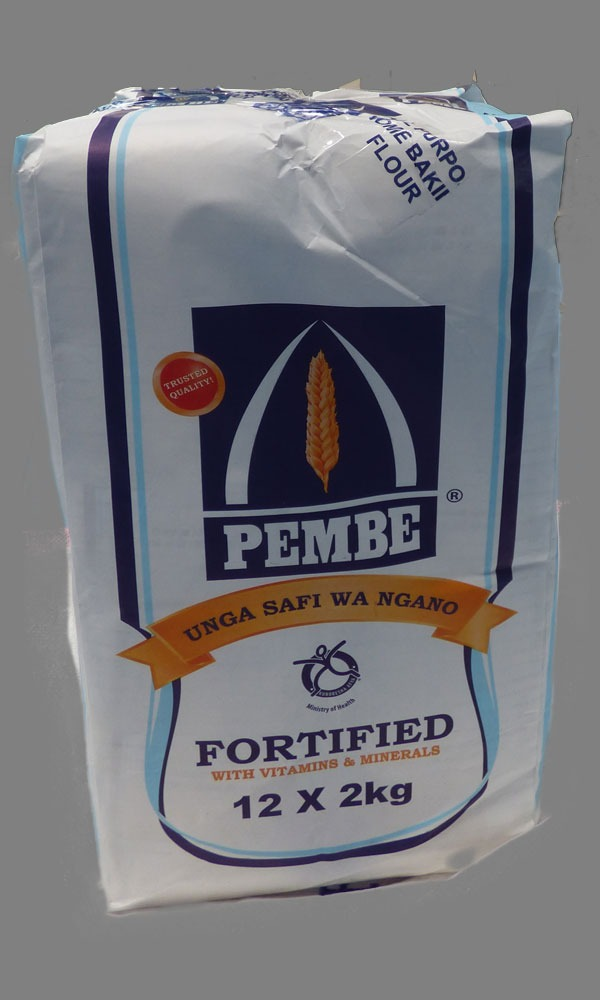wheat_flour_blue_label: (17, 84, 536, 906)
